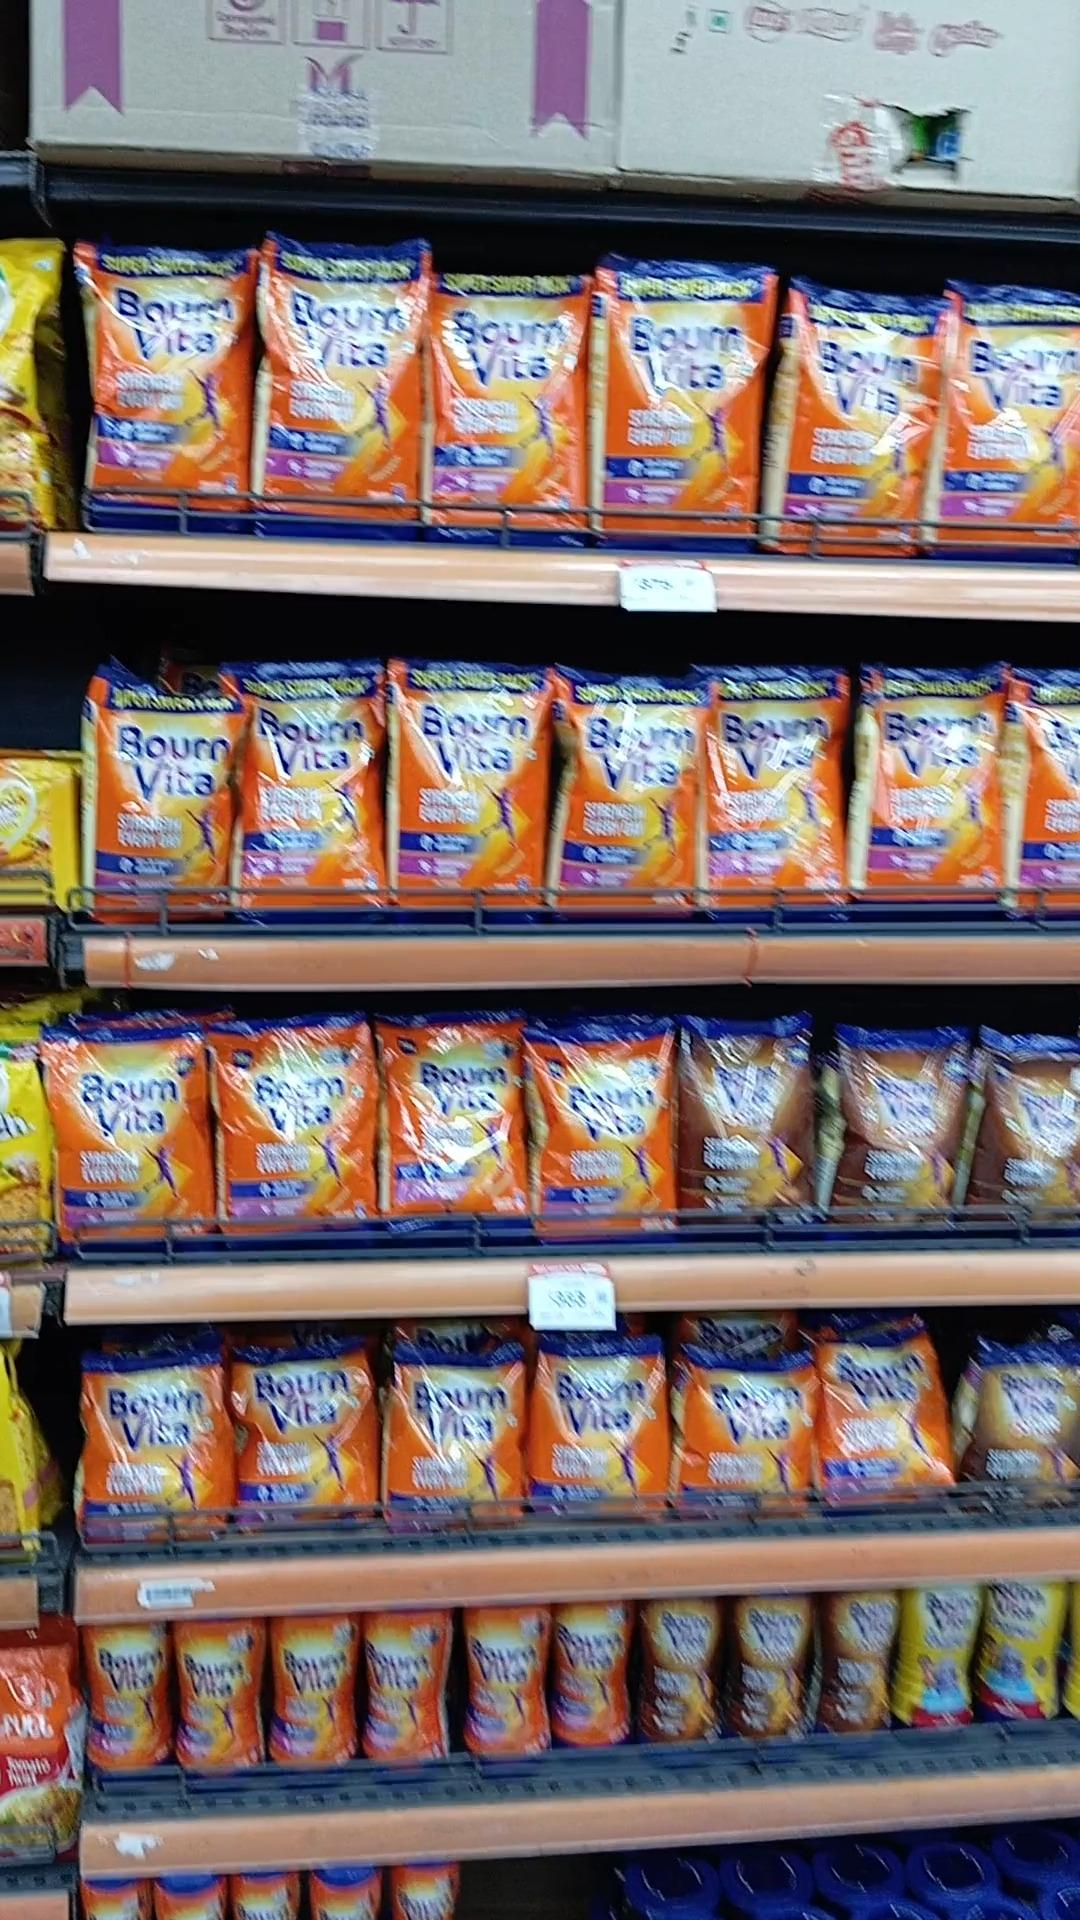BOURN_VITA_1_KG_POUCH: (611, 264, 769, 547), (262, 253, 419, 537), (90, 256, 245, 534), (934, 291, 1080, 558), (435, 278, 584, 538), (802, 289, 939, 551), (393, 662, 531, 920), (855, 662, 992, 920), (553, 666, 691, 914), (704, 665, 839, 918), (248, 675, 375, 915), (100, 682, 225, 923), (1013, 670, 1080, 907)
BOURN_VITA_500_G_JAR: (273, 1614, 356, 1776), (84, 1627, 166, 1783), (181, 1630, 257, 1787), (467, 1613, 543, 1768), (369, 1605, 443, 1766), (551, 1602, 622, 1753)
BOURN_VITA_500_G_POUCH: (87, 1350, 214, 1542), (389, 1349, 517, 1530), (676, 1340, 802, 1519), (241, 1356, 369, 1531), (527, 1352, 649, 1528), (823, 1333, 935, 1510)
BOURN_VITA_750_G_POUCH: (219, 1033, 363, 1254), (54, 1025, 195, 1247), (386, 1019, 522, 1240), (541, 1029, 671, 1242)
BOURN_VITA_CHAMPS_500_G_JAR: (913, 1586, 986, 1737), (985, 1581, 1054, 1733)
BOURN_VITA_FIVE_STAR_MAGIC_500_G_JAR: (642, 1598, 715, 1741), (738, 1594, 810, 1738), (833, 1590, 898, 1730)
BOURN_VITA_FIVE_STAR_MAGIC_500_G_POUCH: (976, 1340, 1080, 1506)
BOURN_VITA_FIVE_STAR_MAGIC_750_G_POUCH: (833, 1027, 961, 1244), (687, 1026, 807, 1230), (977, 1030, 1080, 1234)
